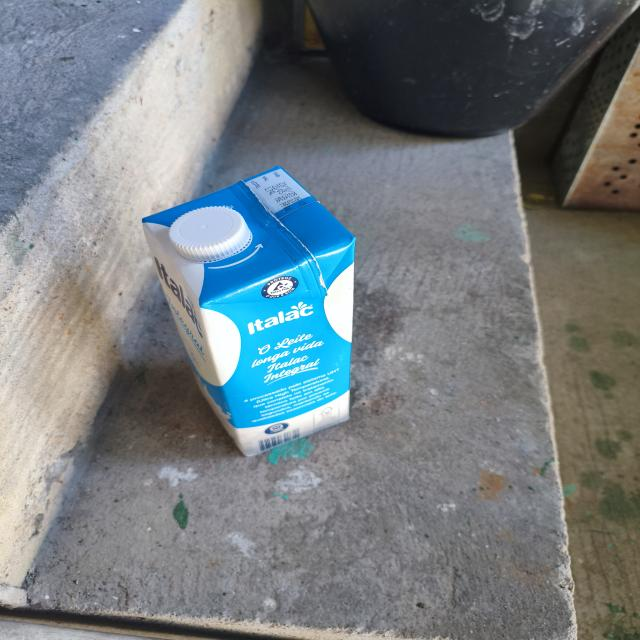Caixa de Leite: (132, 164, 360, 464)
